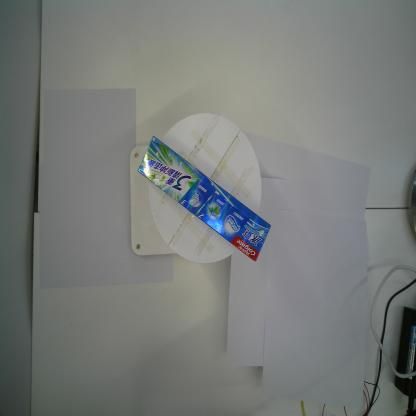Personal Hygiene: (137, 136, 272, 262)
